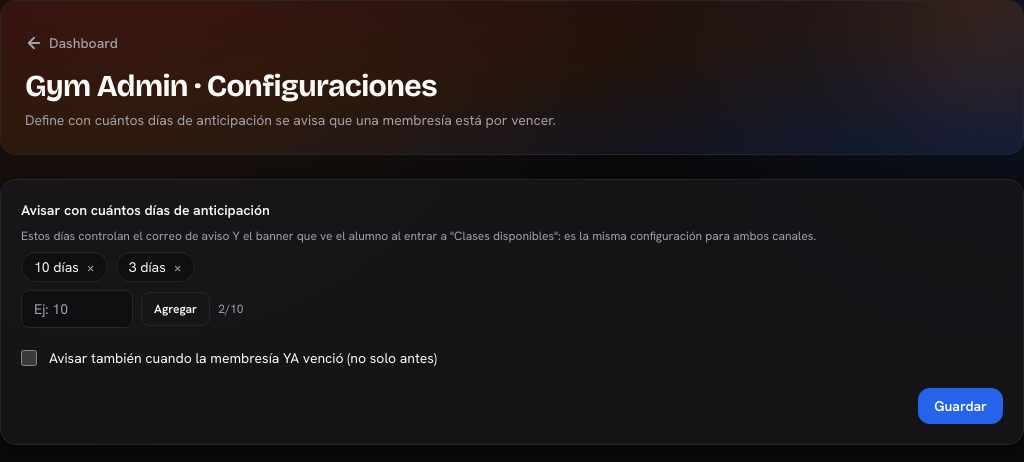
Scenario: GymAdminExpiryNotificationConfigPage — agregar días (validación en la UI) › permite quitar un día ya agregado
Expected: the text "10 días" is shown, [21, 252, 108, 282]
Click the button named "Quitar 10 días".
click(91, 267)  # box [87, 257, 95, 277]
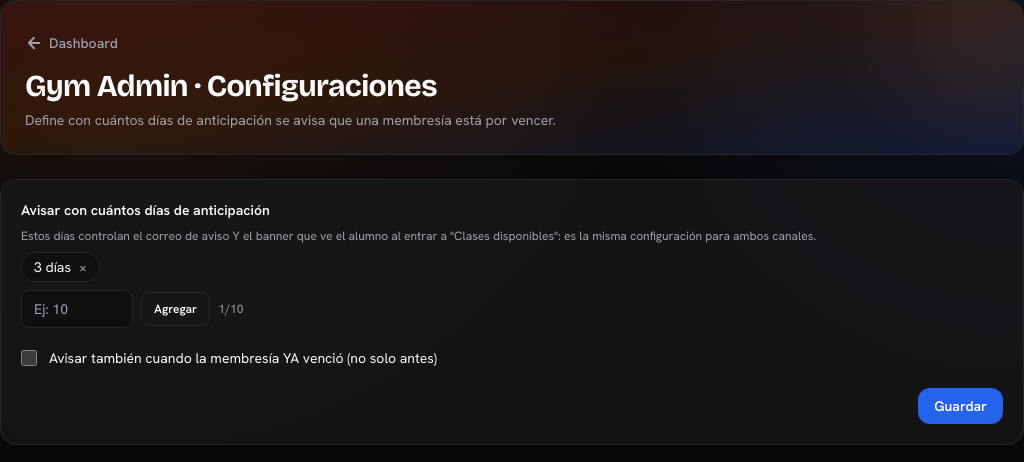
Expected: the text "3 días" is shown, [21, 252, 100, 282]
Result: the text "10 días" is gone
